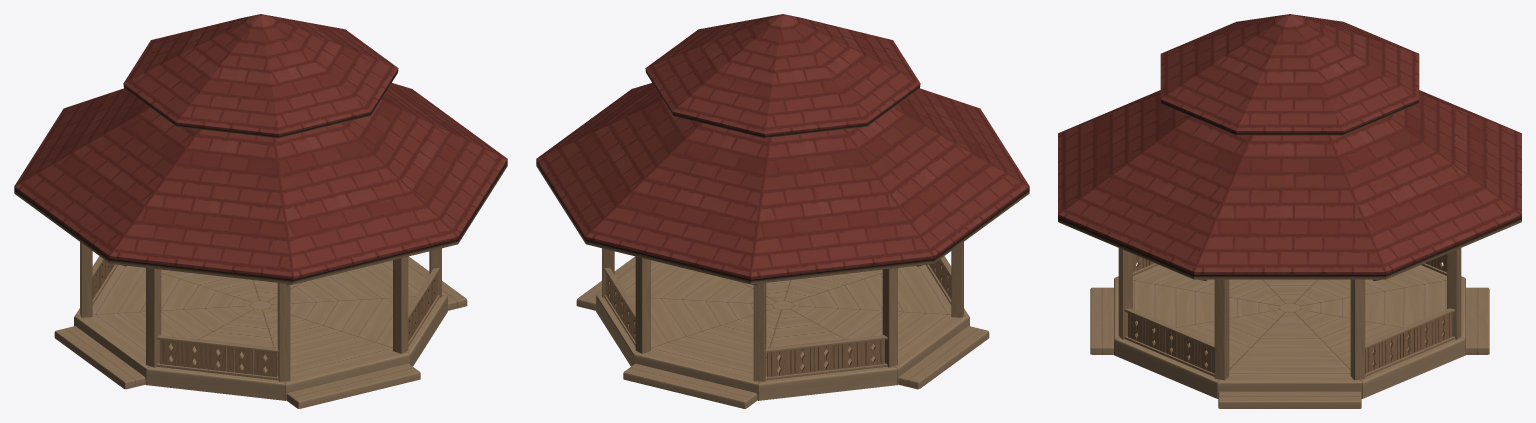
File: gazebo red.glb
The picture shows the model from 3 angles, left to right: view 1: azimuth 30°, elevation 25°; view 2: azimuth 150°, elevation 25°; view 3: azimuth 270°, elevation 25°; orthographic projection.
Parts seen in each view (by area): view 1: Park_Gazebo; view 2: Park_Gazebo; view 3: Park_Gazebo.
Boxes of the visible parts, x1,y1,x2,y2 form: Park_Gazebo: (14, 14, 507, 408); Park_Gazebo: (536, 14, 1029, 408); Park_Gazebo: (1058, 14, 1521, 408).
Size of the model in its own units: 16.44 by 12.15 by 16.44.
1 material, 1 textured.
